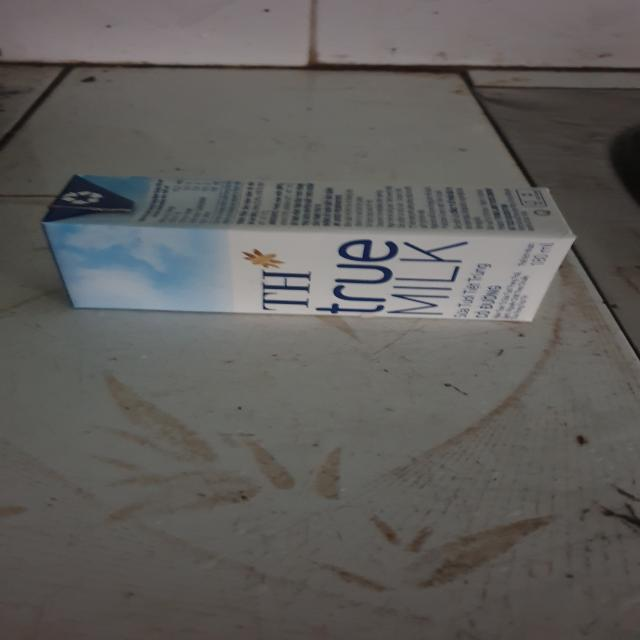TH: (43, 172, 575, 324)
